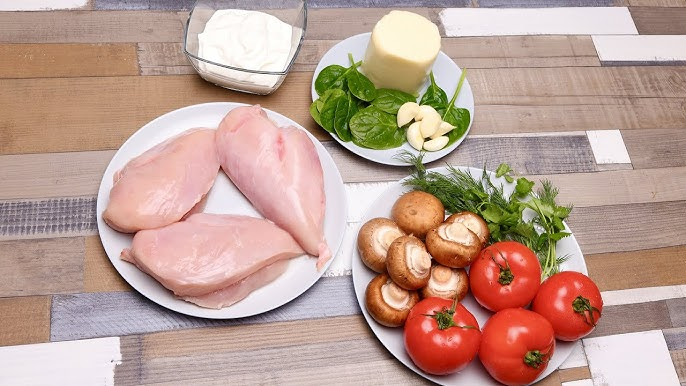Cheese: (366, 5, 442, 94)
Chicken: (207, 98, 337, 269), (120, 219, 303, 308), (103, 127, 228, 234)
Cilantro: (486, 203, 568, 253)
Mushroom: (356, 215, 410, 268), (365, 272, 418, 322), (427, 219, 480, 269), (384, 234, 430, 287), (418, 262, 469, 303)
Potato: (384, 179, 447, 243)
Spinach: (314, 57, 399, 147)
Tomato: (401, 294, 482, 381), (475, 301, 554, 384), (469, 240, 540, 318), (533, 271, 607, 344)
